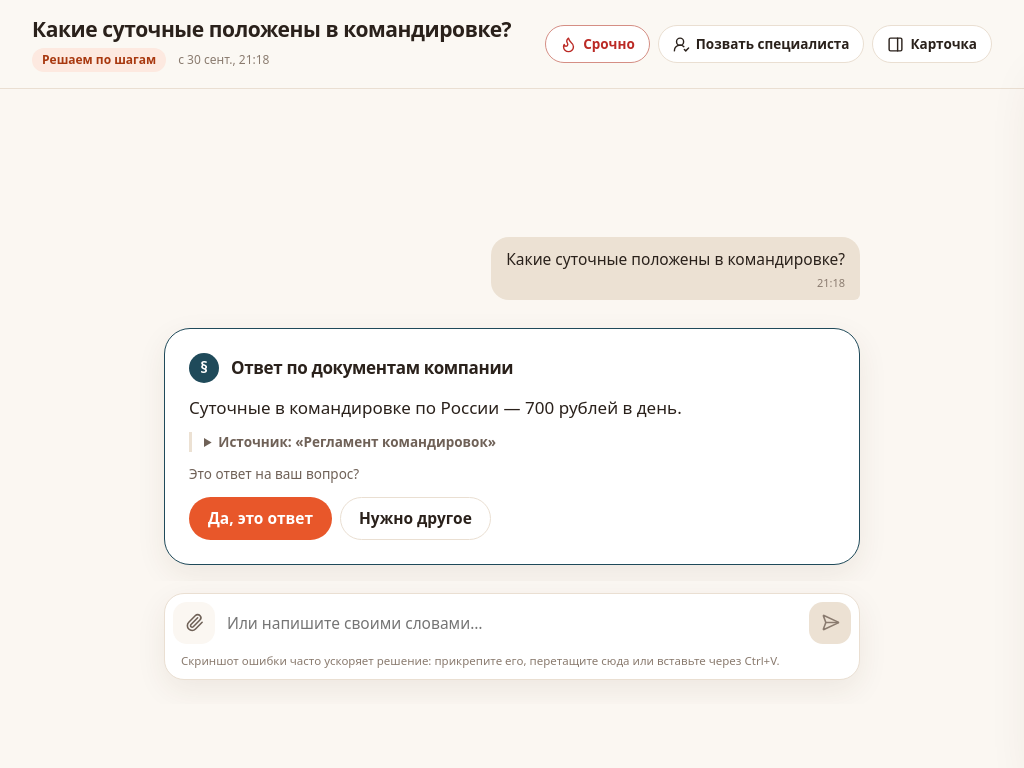
Scenario: ConversationPage with a company document answer › shows which document the step comes from and its exact words
Click the heading "Источник: «Регламент командировок»": [357, 442] box [218,433,496,451]
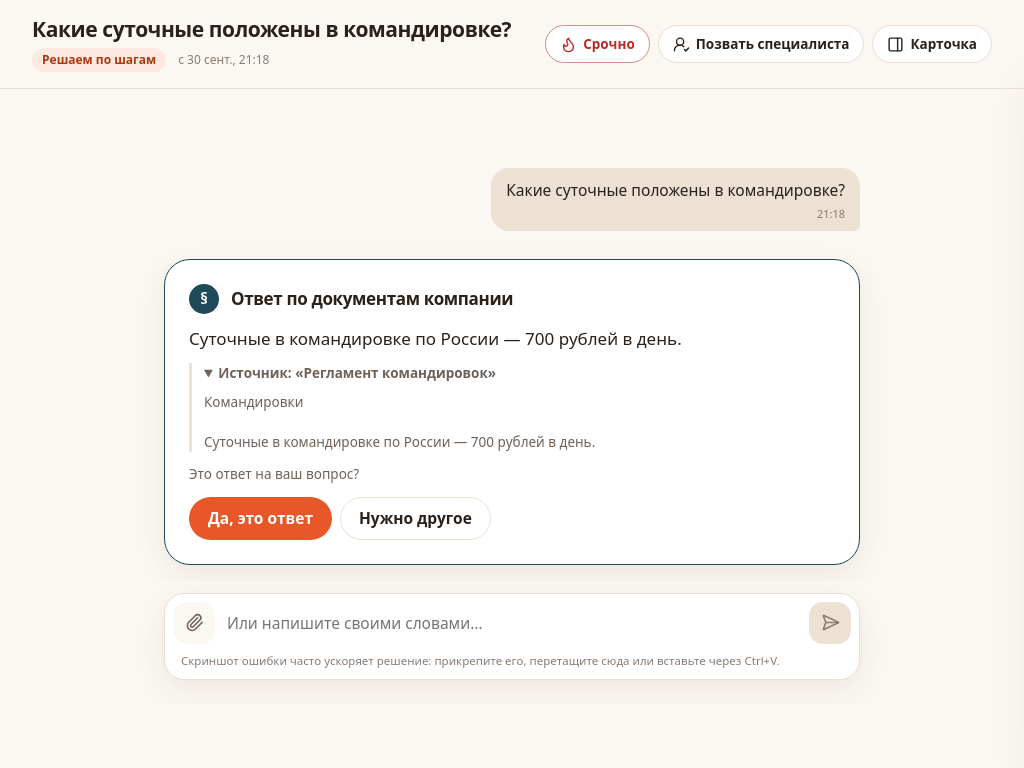
Now the text "Суточные в командировке по России — 700 рублей в день." is shown, box [204,392,595,451]
